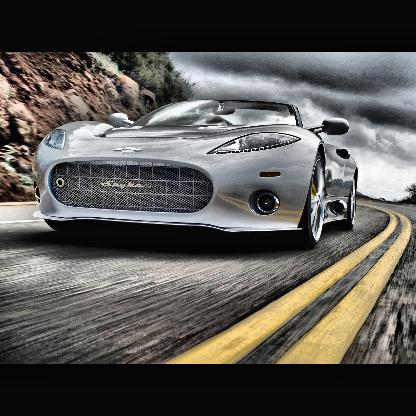Spyker C8 Coupe 2009: (33, 97, 362, 254)
